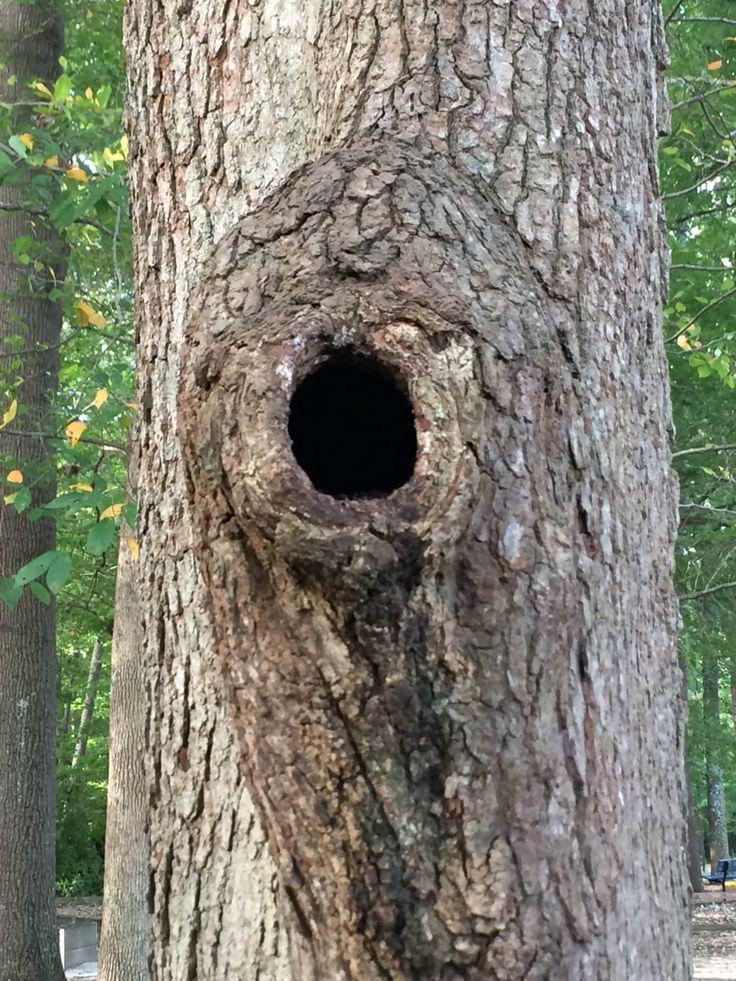hollow: (288, 354, 416, 497)
